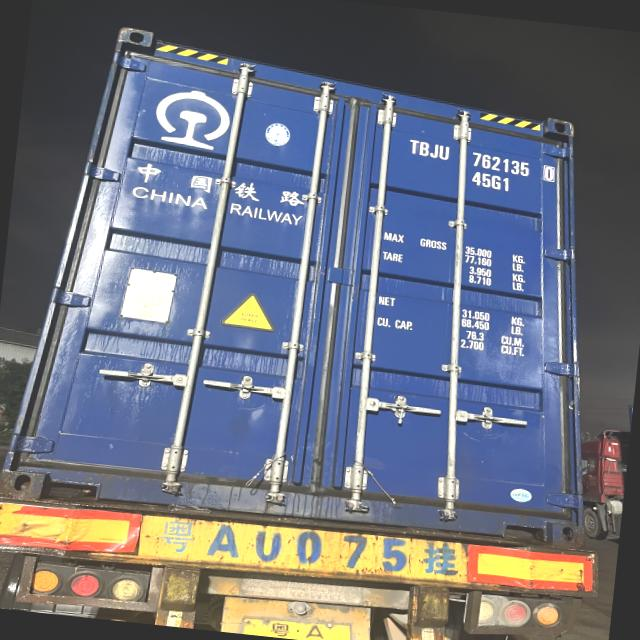seal: (388, 395, 417, 428)
